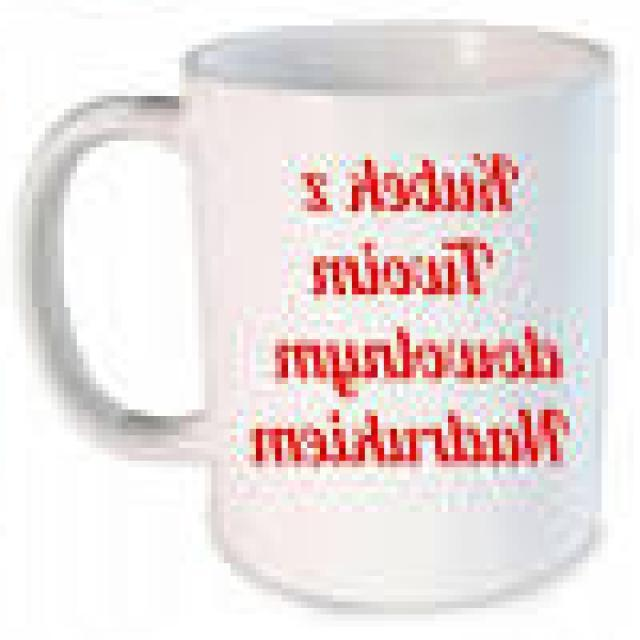taza: (15, 29, 612, 611)
